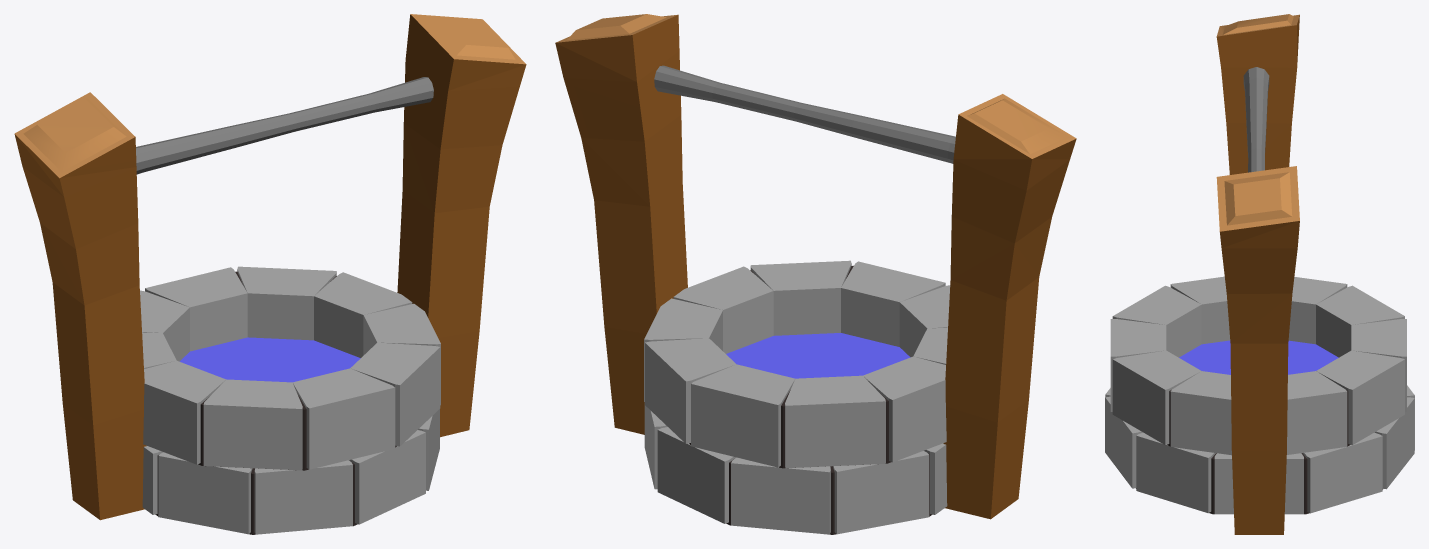
The model's file is Prop_Well_01.fbx.
3 renders of one model, left to right at view 1: azimuth 30°, elevation 25°; view 2: azimuth 150°, elevation 25°; view 3: azimuth 270°, elevation 25°, orthographic. The views are drawn at different scales.
Parts seen in each view (by area): view 1: Prop_Well_01; view 2: Prop_Well_01; view 3: Prop_Well_01.
Boxes of the visible parts, box(x1,y1,x2,y2) form: Prop_Well_01: box(14, 14, 526, 534); Prop_Well_01: box(555, 14, 1076, 534); Prop_Well_01: box(1105, 14, 1414, 534).
Size of the model in its own units: 2641 by 2138 by 1676.
